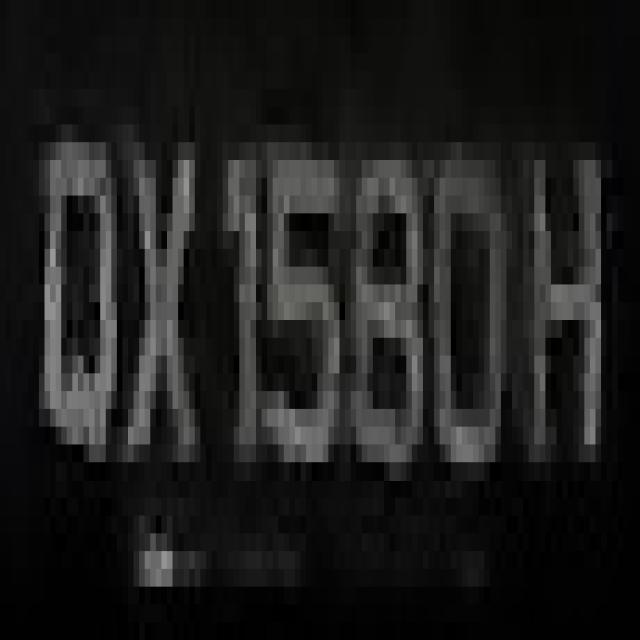0: (417, 107, 512, 551)
1: (217, 89, 273, 533)
5: (267, 71, 340, 533)
8: (334, 107, 428, 516)
H: (518, 142, 596, 516)
Q: (33, 89, 117, 480)
X: (111, 71, 212, 516)
